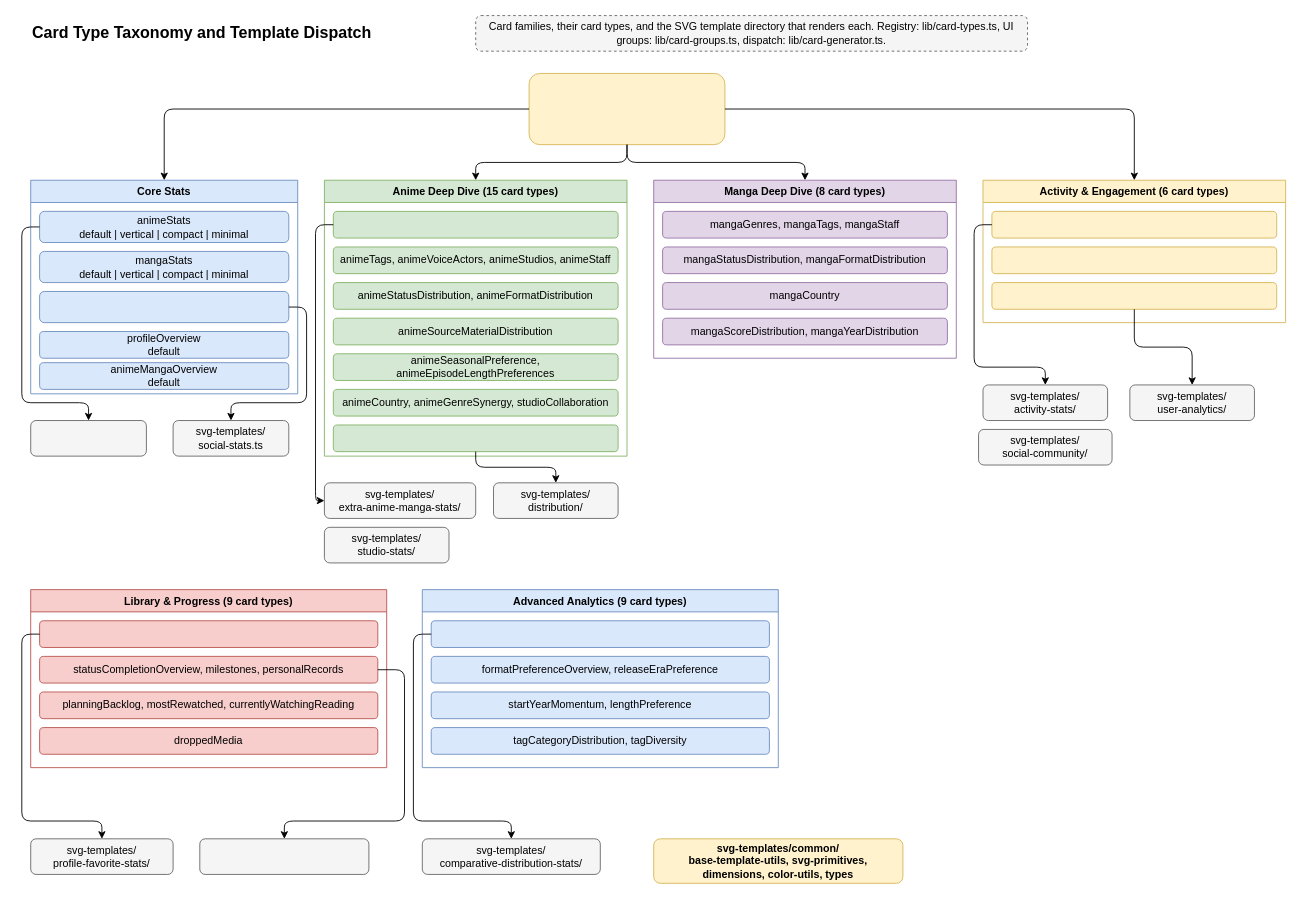
Some shapes in this 1301 by 899 pixel diagram are drawn without their labels. The shapes that lost their labels are listed below. From the top down, each one's centre as x and y in pixels, then its label:
At point (626, 109): "generateCardSvg() lib/card-generator.ts normalizeVariant() lazy template import".
At point (475, 224): "animeGenres default | pie | donut | bar | radar".
At point (1134, 224): "recentActivitySummary, activityStreaks, topActivityDays".
At point (1134, 260): "socialMilestones, reviewStats".
At point (164, 307): "socialStats default | compact | minimal | badges".
At point (1134, 295): "seasonalViewingPatterns".
At point (88, 438): "svg-templates/ media-stats/".
At point (475, 438): "animeScoreDistribution, animeYearDistribution".
At point (208, 633): "favoritesSummary, favoritesGrid, profileOverview".
At point (599, 633): "scoreCompareAnimeManga, countryDiversity, genreDiversity".
At point (284, 856): "svg-templates/ completion-progress-stats/".
